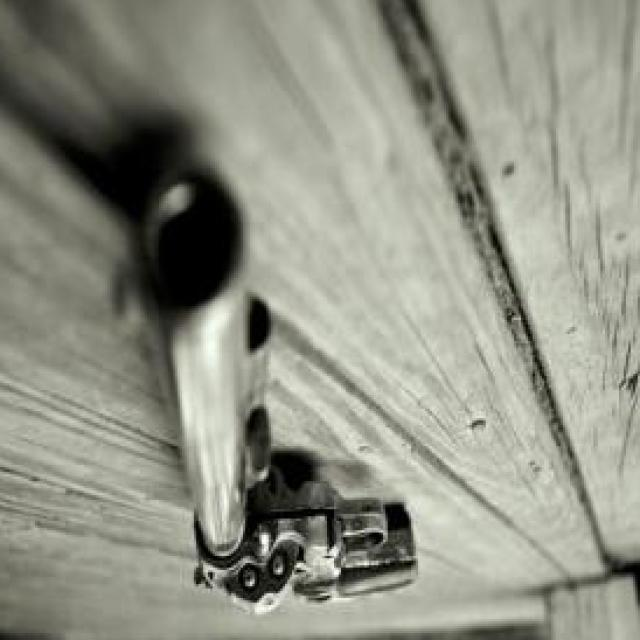pistol: (122, 156, 420, 616)
